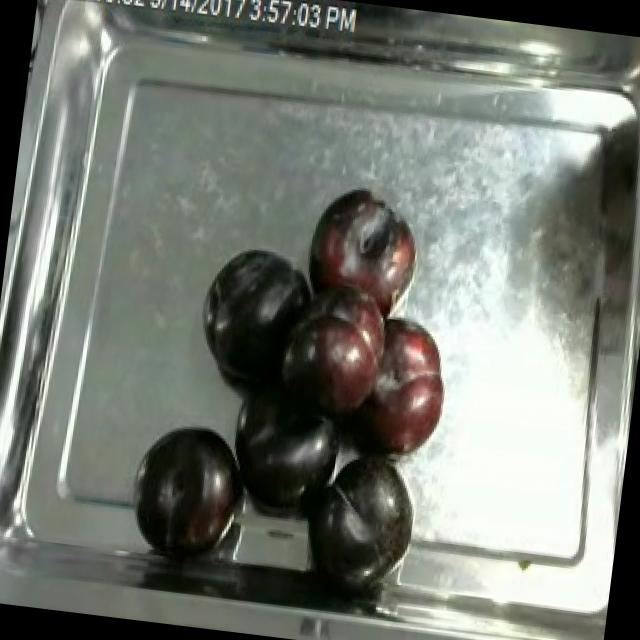Fruit: (294, 178, 430, 332), (347, 298, 466, 473), (122, 408, 255, 564), (193, 240, 320, 398), (606, 34, 640, 144)
